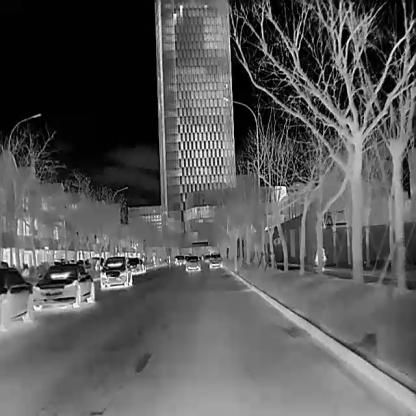car: (33, 260, 94, 309), (0, 265, 31, 332), (100, 254, 132, 290), (313, 241, 326, 273), (125, 256, 145, 273), (184, 254, 200, 272), (208, 251, 223, 268)
